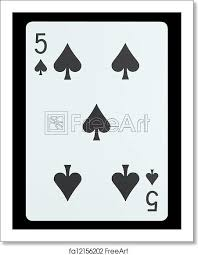five of spades: (25, 22, 168, 220)
